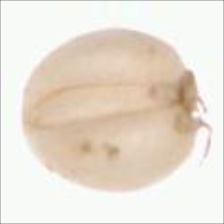L5: (25, 77, 178, 137), (173, 64, 210, 144)
L6: (19, 26, 202, 194)
